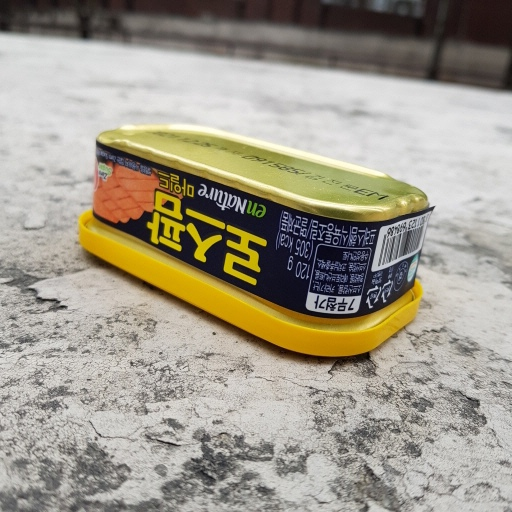Metal_2: (73, 119, 434, 362)
